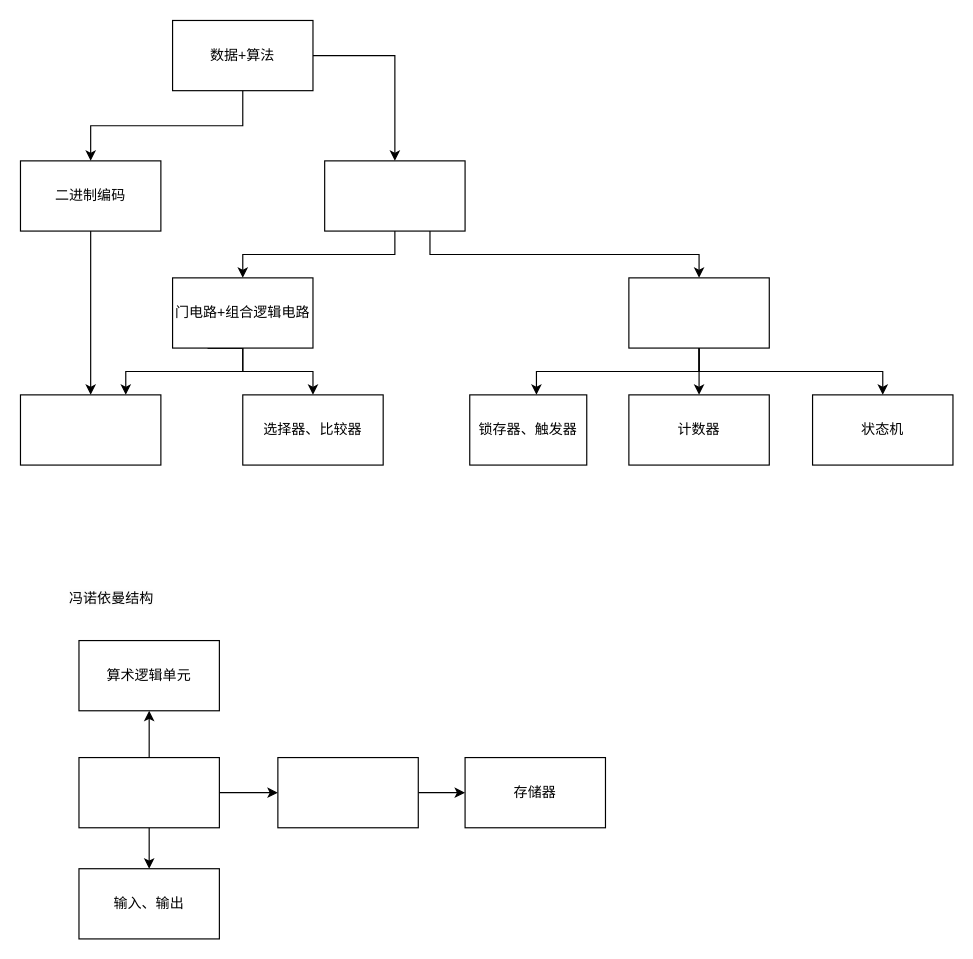
Some shapes in this 973 by 959 pixel diagram are drawn without their labels. Each missing label, with the centre of its shape:
"总线" belongs at (x=347, y=792).
"控制器" belongs at (x=148, y=792).
"时序逻辑电路" belongs at (x=698, y=312).
"编码器、解码器" belongs at (x=90, y=429).
"逻辑代数： 与、或、非" belongs at (x=394, y=195).
